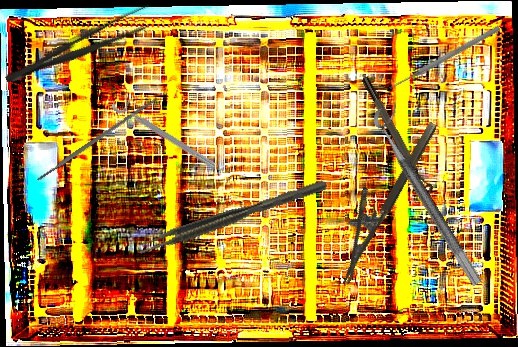Dressing Forceps: (1, 0, 158, 92)
Fixation Ring: (368, 100, 498, 288), (359, 72, 436, 200), (110, 91, 221, 172)
Needle Holder: (317, 109, 440, 286)
Pusher: (387, 24, 502, 92)
Scalpel Handle: (35, 96, 159, 182)
Tissue Forceps: (133, 179, 330, 257)
